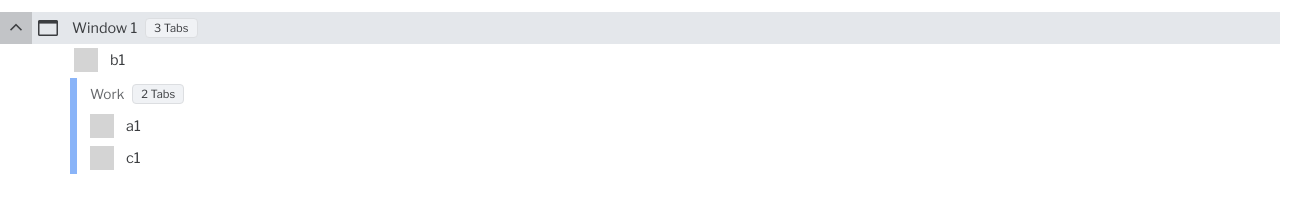
a saved window and its groups › popup: the group right-click leads with Open · Add tab · Rename
The width and height of the screenshot is (1292, 201).
Step 1. Right-click the button with aria-label "Rename group: Work" → (105, 94), box [86,78,124,110]
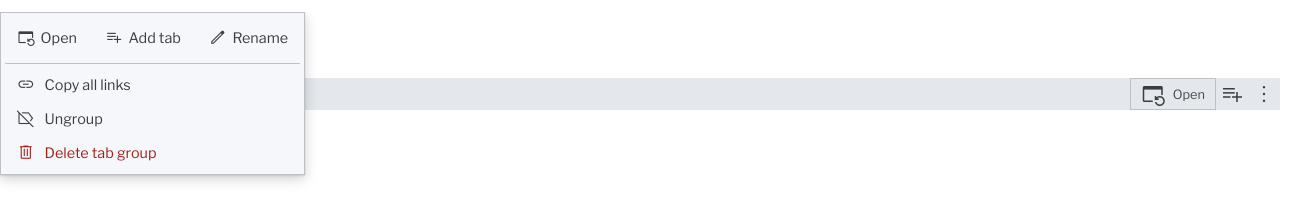
Expected: the number of menus is 1, [0,12,305,175]
